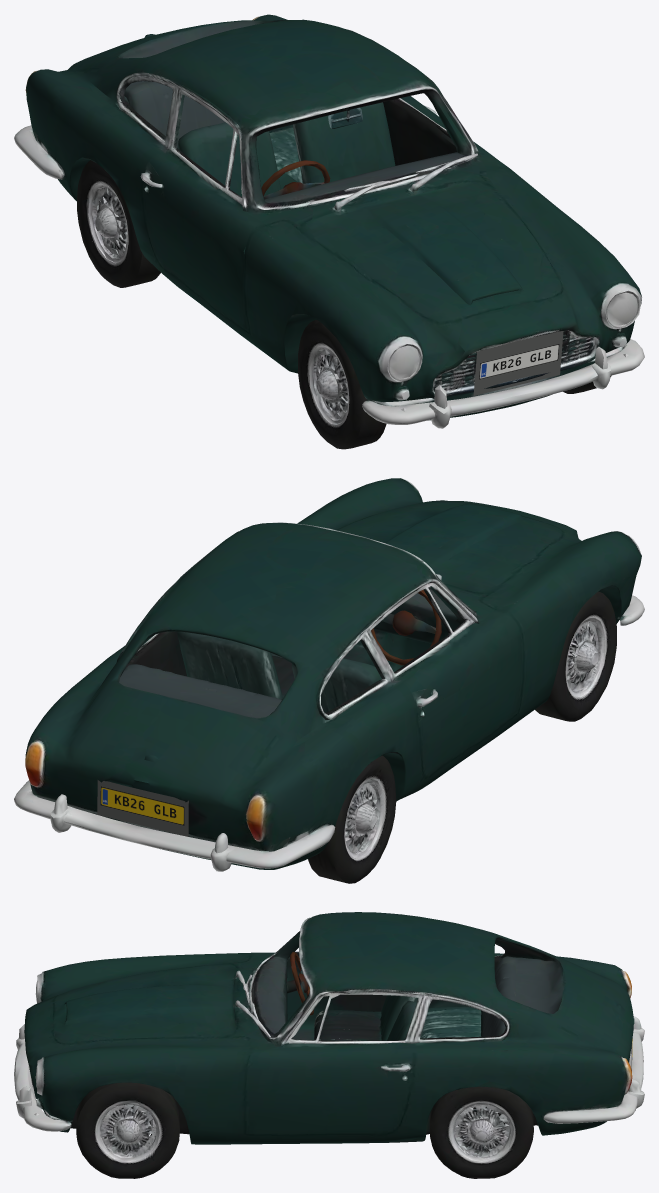
File: car-classic.glb
3 views of the same model, one above another, from view 1: azimuth 30°, elevation 25°; view 2: azimuth 150°, elevation 25°; view 3: azimuth 270°, elevation 25° (orthographic). The views are drawn at different scales.
Visible parts, largest first — view 1: body, wheel_RR_mesh, wheel_FR_mesh; view 2: body, wheel_RR_mesh, wheel_FR_mesh; view 3: body, wheel_FL_mesh, wheel_RL_mesh.
Boxes of the visible parts, <box> form: body: <box>14,14,644,449</box>; wheel_RR_mesh: <box>86,183,128,263</box>; wheel_FR_mesh: <box>307,345,348,424</box>; body: <box>14,478,644,883</box>; wheel_RR_mesh: <box>344,780,385,859</box>; wheel_FR_mesh: <box>565,618,605,699</box>; body: <box>14,912,644,1178</box>; wheel_FL_mesh: <box>95,1104,161,1161</box>; wheel_RL_mesh: <box>450,1104,513,1161</box>.
Bounding box in the file's own units: 1.9 × 1.5 × 4.5.
3 materials, 2 textured.
